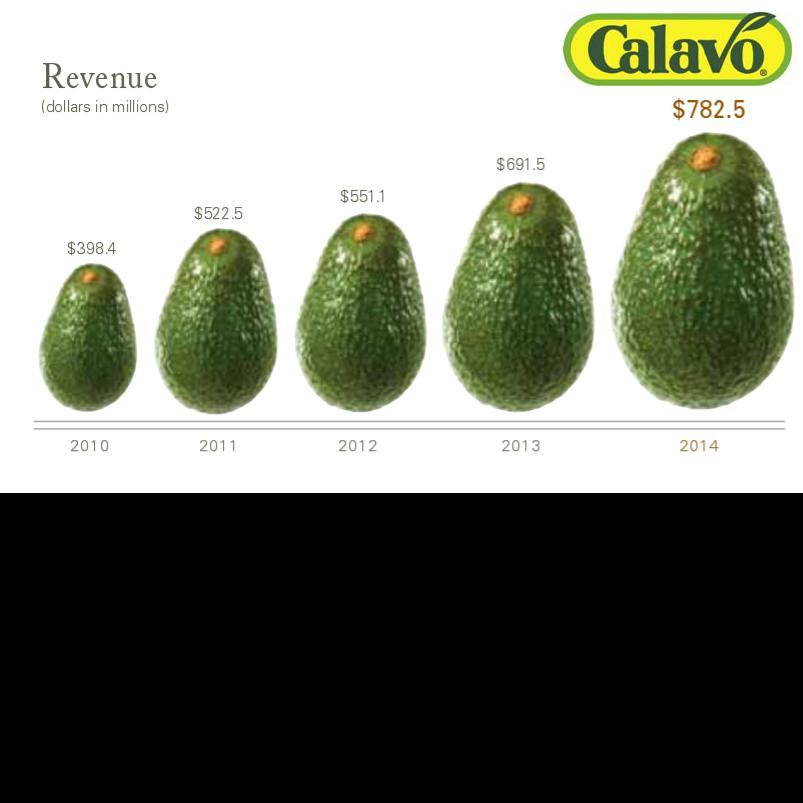unripe: (611, 132, 793, 408), (443, 184, 594, 412), (296, 214, 426, 412), (156, 229, 278, 414), (39, 264, 137, 412)
